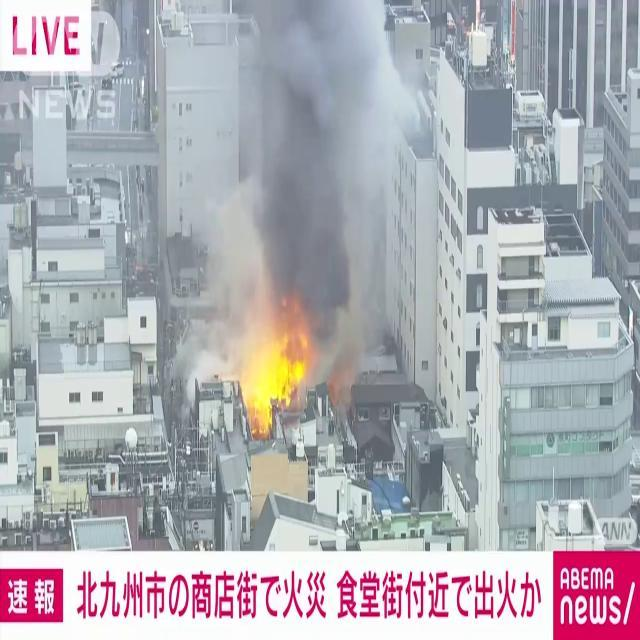Fire: (238, 314, 312, 432)
Smoke: (205, 1, 412, 360)
